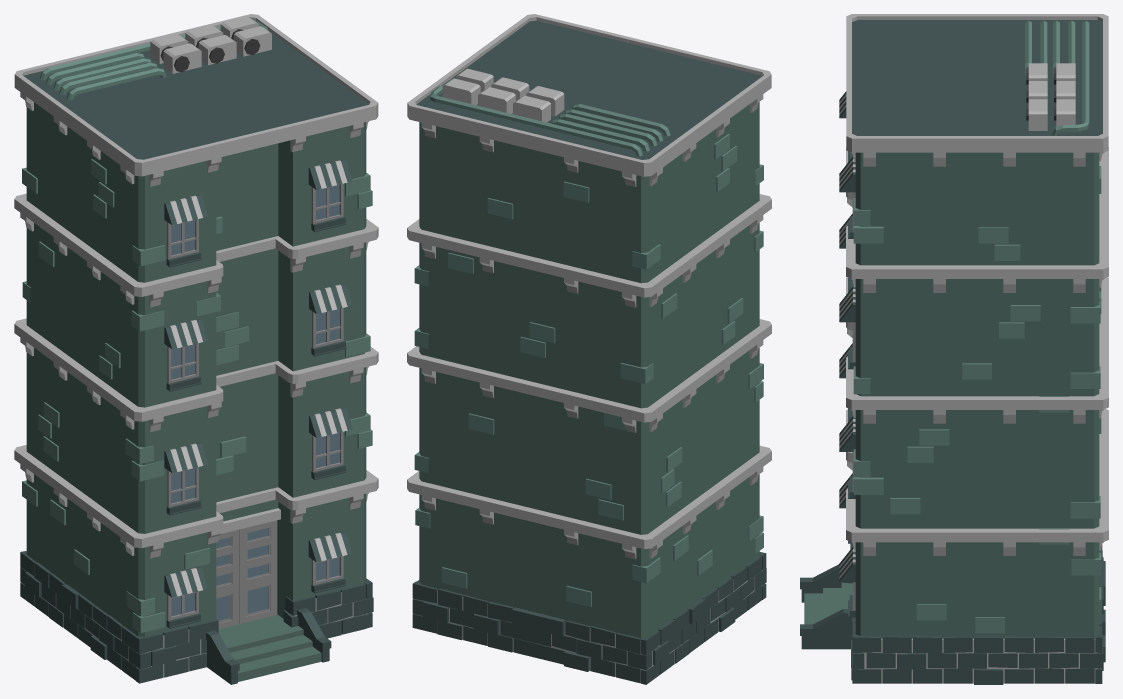
The model's file is q_bldg_tall.glb.
3 views of the same model, side by side, from view 1: azimuth 30°, elevation 25°; view 2: azimuth 150°, elevation 25°; view 3: azimuth 270°, elevation 25° (orthographic). The views are drawn at different scales.
Visible parts, largest first — view 1: 4Story_Center_Mat; view 2: 4Story_Center_Mat; view 3: 4Story_Center_Mat.
Part boxes in pixels (x1,y1,x2,y2): 4Story_Center_Mat: (14, 14, 378, 684); 4Story_Center_Mat: (407, 14, 771, 684); 4Story_Center_Mat: (800, 14, 1108, 684).
Bounding box in the file's own units: 2.42 × 5.09 × 2.53.
